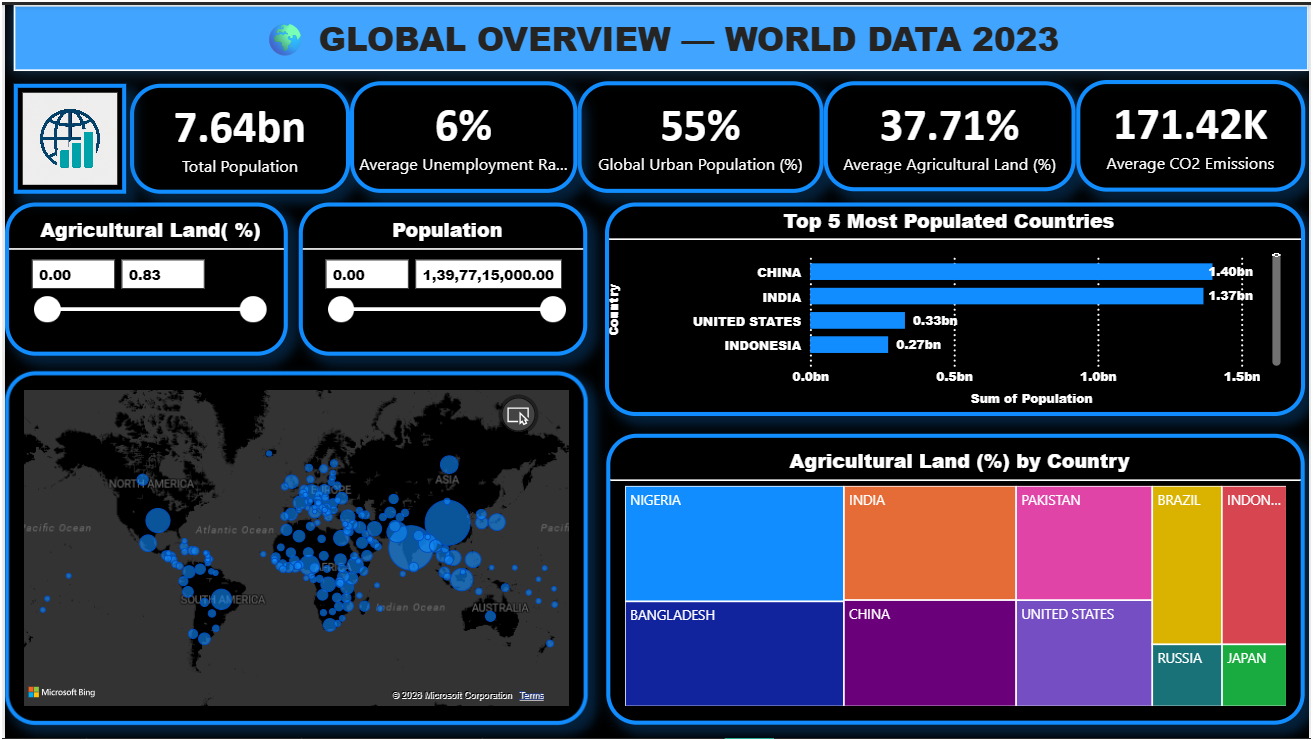

Layout of this report page (visuals, bound fields, positions):
{"tool":"powerbi","page":{"name":"Global Overview","canvas":[1280,720],"ordinal":0},"visuals":[{"type":"card","fields":{"Values":["Measure.Total Population"]},"box":[122.4,76.1,225.4,109],"z":0},{"type":"card","fields":{"Values":["Measure.Global Urban Population (%)"]},"box":[586.6,76.1,225.4,110.4],"z":1000},{"type":"card","fields":{"Values":["Measure.Average Agricultural Land (%)"]},"box":[811.9,76.1,247.8,109],"z":2000},{"type":"card","fields":{"Values":["Measure.Average CO2 Emissions"]},"box":[1055.2,76.1,225.4,110.4],"z":3000},{"type":"card","fields":{"Values":["Measure.Average Unemployment Rate"]},"box":[347.8,76.1,238.8,110.4],"z":4000},{"type":"map","fields":{"Category":["Dim_demographics.Country"],"Size":["Sum(Fact_Table.Population)"],"X":["Avg(Dim_demographics.Longitude)"],"Y":["Avg(Dim_demographics.Latitude)"]},"box":[0,359.5,571.3,361.3],"z":5000},{"type":"treemap","title":"Agricultural Land (%) by Country","fields":{"Group":["Dim_Country.Country"],"Values":["Sum(Fact_Table.Agricultural Land( %))"]},"box":[589.6,420.9,691,298.5],"z":6000},{"type":"barChart","title":"Top 5 Most Populated Countries","fields":{"Category":["Dim_Country.Country"],"Y":["Sum(Fact_Table.Population)"]},"box":[589.6,194,691,211.9],"z":7000},{"type":"slicer","title":"Population","fields":{"Values":["Fact_Table.Population"]},"box":[288.1,194,283.6,150.7],"z":8000},{"type":"slicer","title":"Agricultural Land( %)","fields":{"Values":["Fact_Table.Agricultural Land( %)"]},"box":[0,194,277.6,150.7],"z":9000},{"type":"textbox","box":[8.4,0,1271.2,64.8],"z":10000},{"type":"image","box":[0,77.6,110.4,107.5],"z":10001}]}

Visuals, with their boxes in screenshot pixels (x1, y1, x2, y2), scaled from the page's 1280x720 canvas onto the 1313x740 screenshot:
card - Measure.Total Population: (126,78,357,190)
card - Measure.Global Urban Population (%): (602,78,833,192)
card - Measure.Average Agricultural Land (%): (833,78,1087,190)
card - Measure.Average CO2 Emissions: (1082,78,1312,192)
card - Measure.Average Unemployment Rate: (357,78,602,192)
map - Dim_demographics.Country x Sum(Fact_Table.Population): (0,369,586,739)
"Agricultural Land (%) by Country" treemap: (605,433,1312,739)
"Top 5 Most Populated Countries" barChart: (605,199,1312,417)
"Population" slicer: (296,199,586,354)
"Agricultural Land( %)" slicer: (0,199,285,354)
textbox: (9,0,1312,67)
image: (0,80,113,190)
